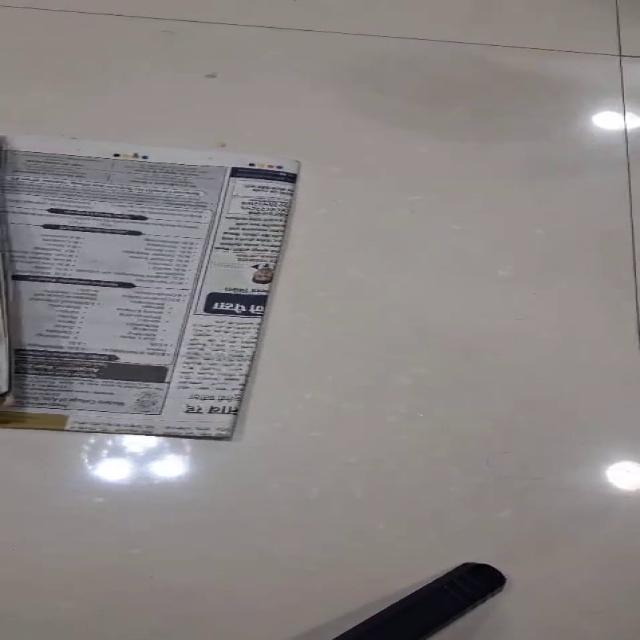paper: (0, 133, 301, 440)
